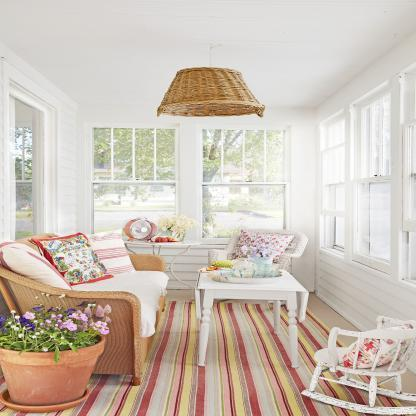chair: (0, 237, 176, 381), (209, 228, 319, 334), (299, 317, 416, 416)
light: (148, 57, 276, 123)
table: (197, 262, 309, 365)
